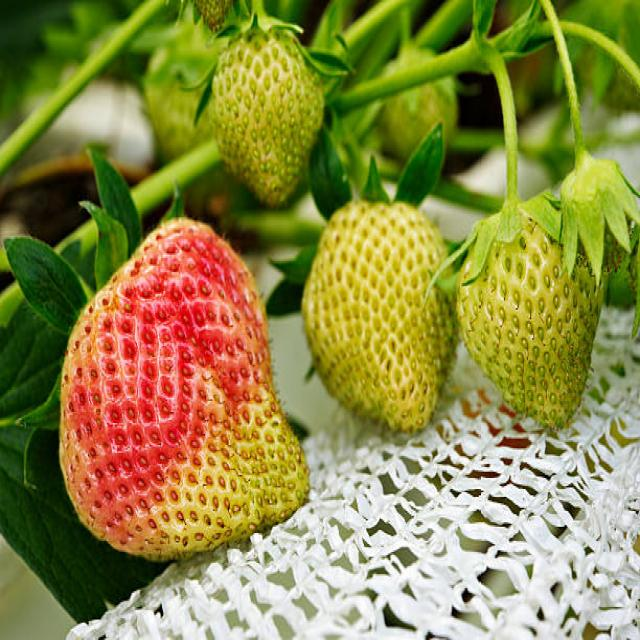Healthy Fruit: (60, 218, 310, 561), (297, 201, 455, 436), (455, 216, 605, 424), (211, 28, 326, 205)
